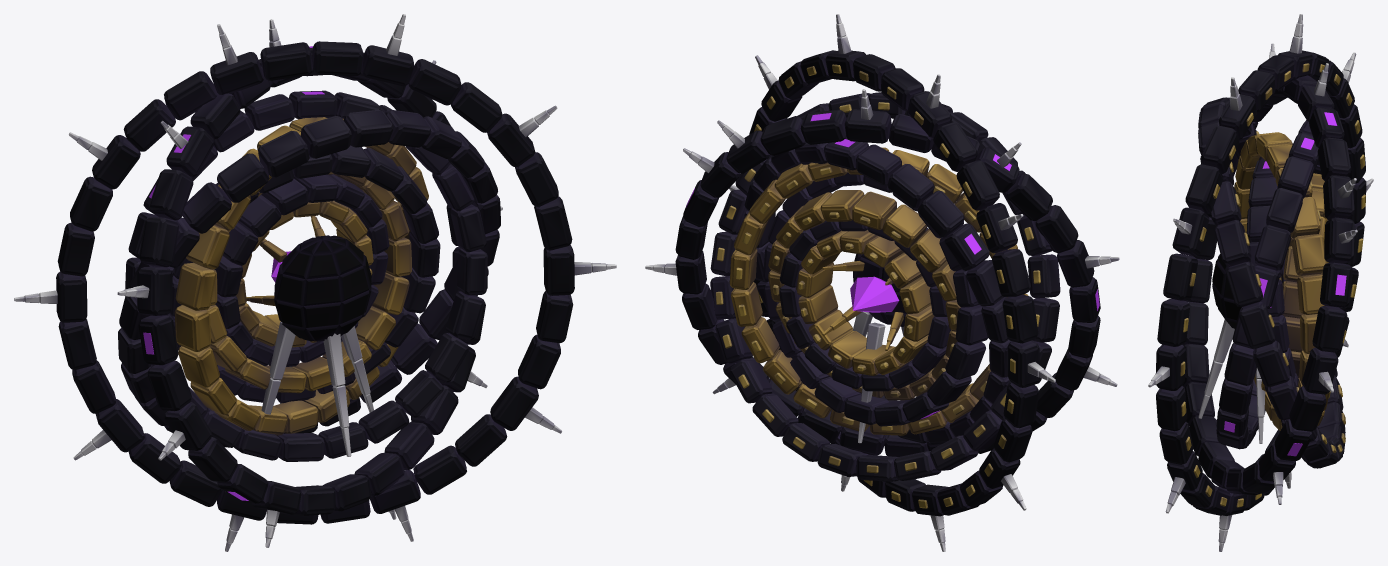
File: Ninering.glb
3 renders of one model, left to right at view 1: azimuth 30°, elevation 25°; view 2: azimuth 150°, elevation 25°; view 3: azimuth 270°, elevation 25°, orthographic. The views are drawn at different scales.
Visible parts, largest first — view 1: Ring9__Tex, Ring8__Tex, Ring7__Tex, Ring6__Tex, Body__Tex, Ring5__Tex, Ring4__Tex, Ring2__Tex, Ring3__Tex, Ring1__Tex; view 2: Ring8__Tex, Ring9__Tex, Ring7__Tex, Ring6__Tex, Ring5__Tex, Ring4__Tex, Ring1__Tex, Ring3__Tex, Ring2__Tex, Body__Tex, Body__Glow; view 3: Ring9__Tex, Ring8__Tex, Ring7__Tex, Ring6__Tex, Ring5__Tex, Ring4__Tex, Body__Tex, Ring3__Tex, Ring8__Glow, Ring6__Glow.
Boxes of the visible parts, x1=… form: Ring9__Tex: x1=14, y1=14, x2=616, y2=551; Ring8__Tex: x1=117, y1=19, x2=502, y2=547; Ring7__Tex: x1=118, y1=109, x2=500, y2=447; Ring6__Tex: x1=125, y1=90, x2=487, y2=461; Body__Tex: x1=246, y1=216, x2=373, y2=456; Ring5__Tex: x1=174, y1=117, x2=430, y2=435; Ring4__Tex: x1=166, y1=145, x2=440, y2=403; Ring2__Tex: x1=214, y1=174, x2=389, y2=366; Ring3__Tex: x1=207, y1=171, x2=411, y2=393; Ring1__Tex: x1=236, y1=200, x2=373, y2=347; Ring8__Tex: x1=645, y1=89, x2=1119, y2=456; Ring9__Tex: x1=729, y1=14, x2=1055, y2=551; Ring7__Tex: x1=710, y1=92, x2=1060, y2=481; Ring6__Tex: x1=744, y1=137, x2=1010, y2=444; Ring5__Tex: x1=729, y1=147, x2=1028, y2=435; Ring4__Tex: x1=763, y1=172, x2=987, y2=426; Ring1__Tex: x1=796, y1=230, x2=934, y2=375; Ring3__Tex: x1=768, y1=190, x2=960, y2=400; Ring2__Tex: x1=779, y1=220, x2=950, y2=391; Body__Tex: x1=822, y1=254, x2=906, y2=443; Body__Glow: x1=850, y1=276, x2=899, y2=312; Ring9__Tex: x1=1148, y1=14, x2=1373, y2=551; Ring8__Tex: x1=1182, y1=43, x2=1357, y2=504; Ring7__Tex: x1=1198, y1=97, x2=1345, y2=468; Ring6__Tex: x1=1216, y1=120, x2=1321, y2=449; Ring5__Tex: x1=1234, y1=132, x2=1330, y2=430; Ring4__Tex: x1=1246, y1=156, x2=1298, y2=403; Body__Tex: x1=1198, y1=254, x2=1265, y2=443; Ring3__Tex: x1=1261, y1=173, x2=1325, y2=391; Ring8__Glow: x1=1287, y1=112, x2=1346, y2=456; Ring6__Glow: x1=1224, y1=137, x2=1314, y2=432.
Size of the model in its own units: 7.42 by 7.74 by 3.32.
